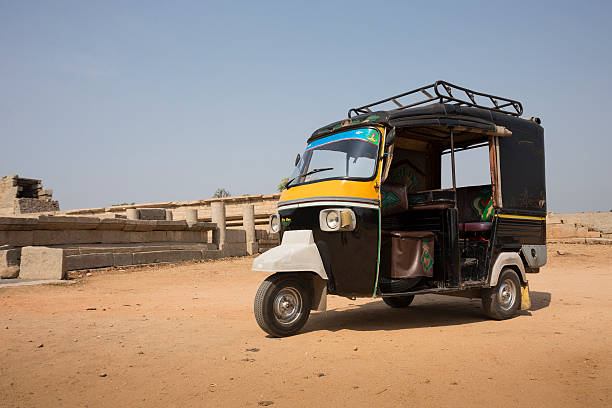threewheel: (251, 103, 547, 338)
